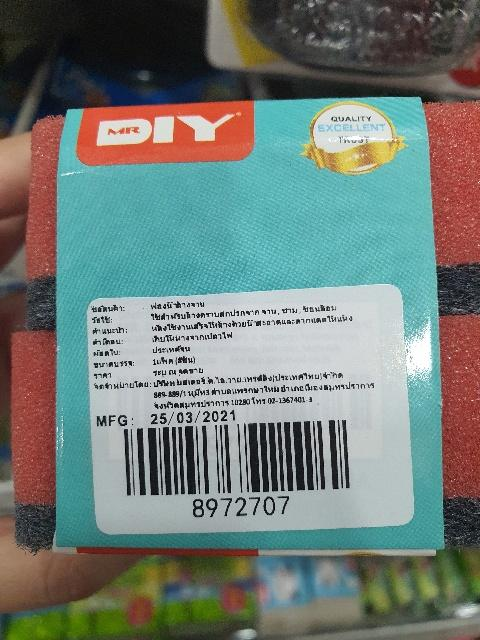Barcode: (120, 412, 361, 524)
